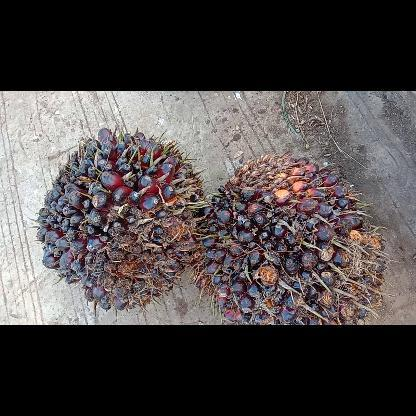TBS mentah: (196, 154, 386, 324), (36, 128, 202, 309)
